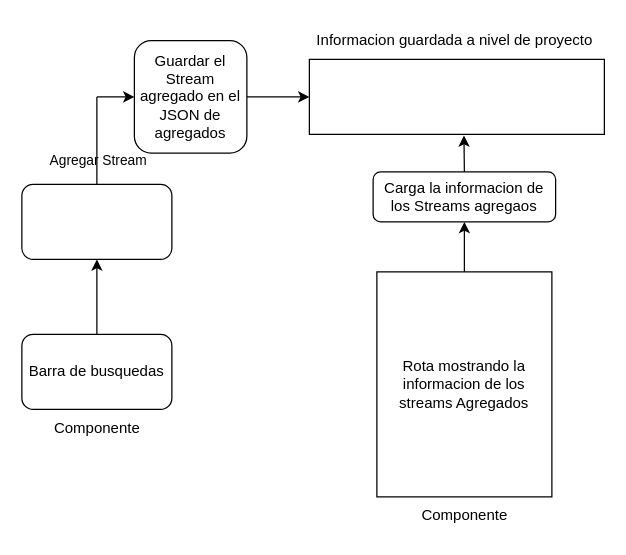
This 626x555 diagram has some shape labels left out. The box of each missing label's shape, as (x1, y1, x2, y2) in pixels:
Informacion de los Stream agregados JSON: (308, 58, 604, 134)
Mostrar Streams del JSON: (21, 183, 172, 259)
